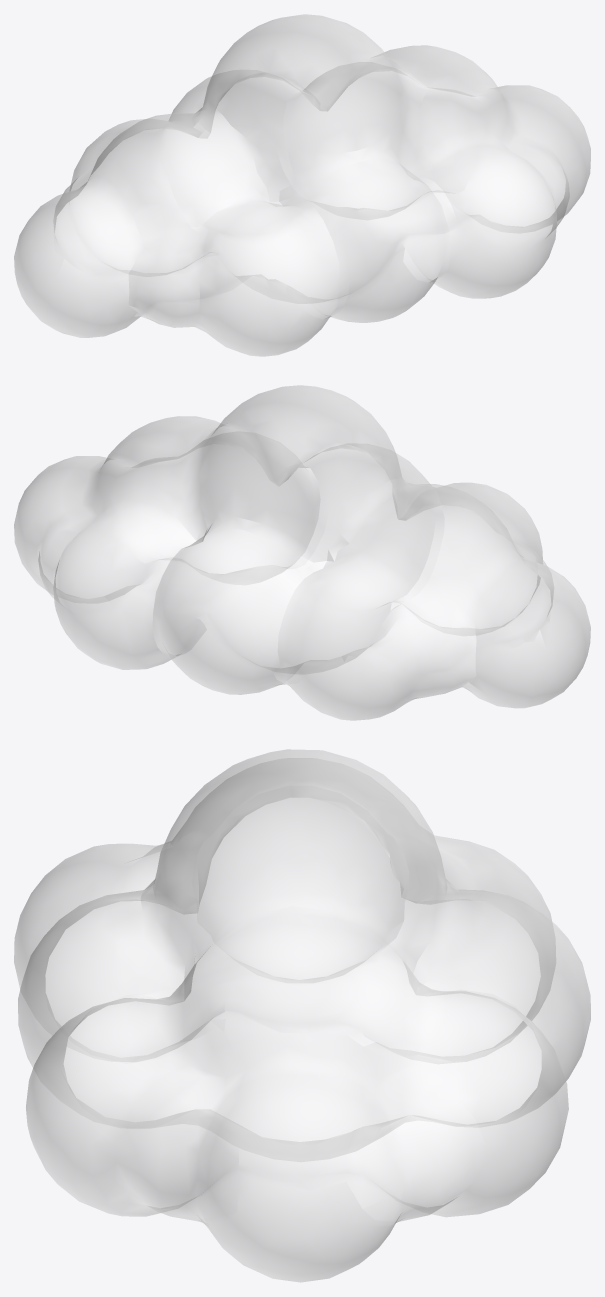
The model's file is Cloud.glb.
3 views of the same model, one above another, from view 1: azimuth 30°, elevation 25°; view 2: azimuth 150°, elevation 25°; view 3: azimuth 270°, elevation 25° (orthographic). The views are drawn at different scales.
Parts seen in each view (by area): view 1: Cloud; view 2: Cloud; view 3: Cloud.
Boxes of the visible parts, bbox=[...] form: Cloud: bbox=[14, 14, 590, 356]; Cloud: bbox=[14, 385, 590, 720]; Cloud: bbox=[14, 749, 590, 1282].
Bounding box in the file's own units: 1.52 × 0.7064 × 0.9574.
1 material, 1 textured.
